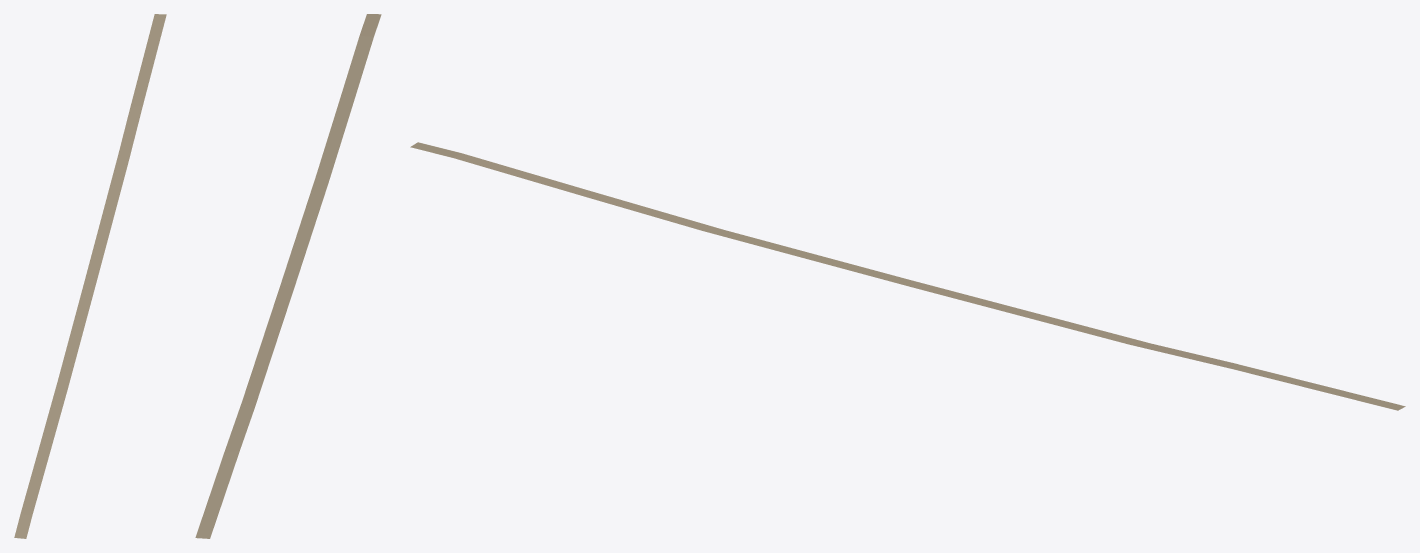
The model's file is farm_-10_7_track.glb.
3 renders of one model, left to right at view 1: azimuth 30°, elevation 25°; view 2: azimuth 210°, elevation 25°; view 3: azimuth 270°, elevation 25°, orthographic. The views are drawn at different scales.
Visible parts, largest first — view 1: geometry_0; view 2: geometry_0; view 3: geometry_0.
Part boxes in pixels (x1=…): geometry_0: x1=14, y1=14, x2=166, y2=538; geometry_0: x1=195, y1=14, x2=381, y2=538; geometry_0: x1=410, y1=142, x2=1405, y2=410.
Bounding box in the file's own units: 188 × 14.26 × 247.
